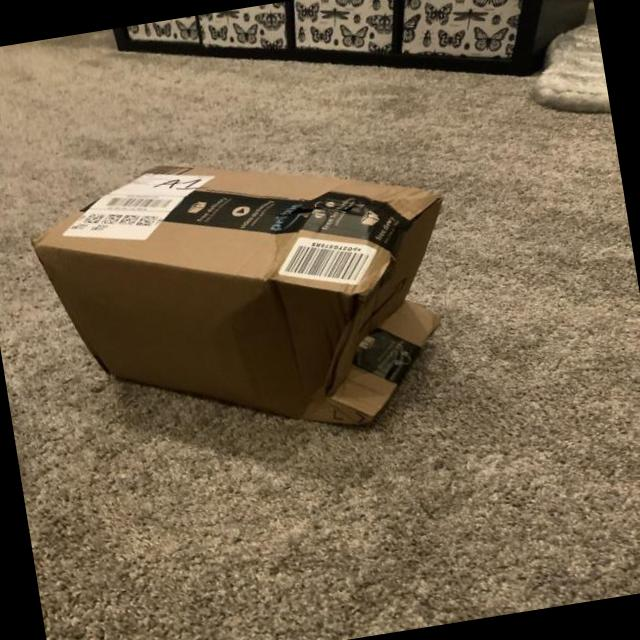box: (47, 18, 640, 627)
